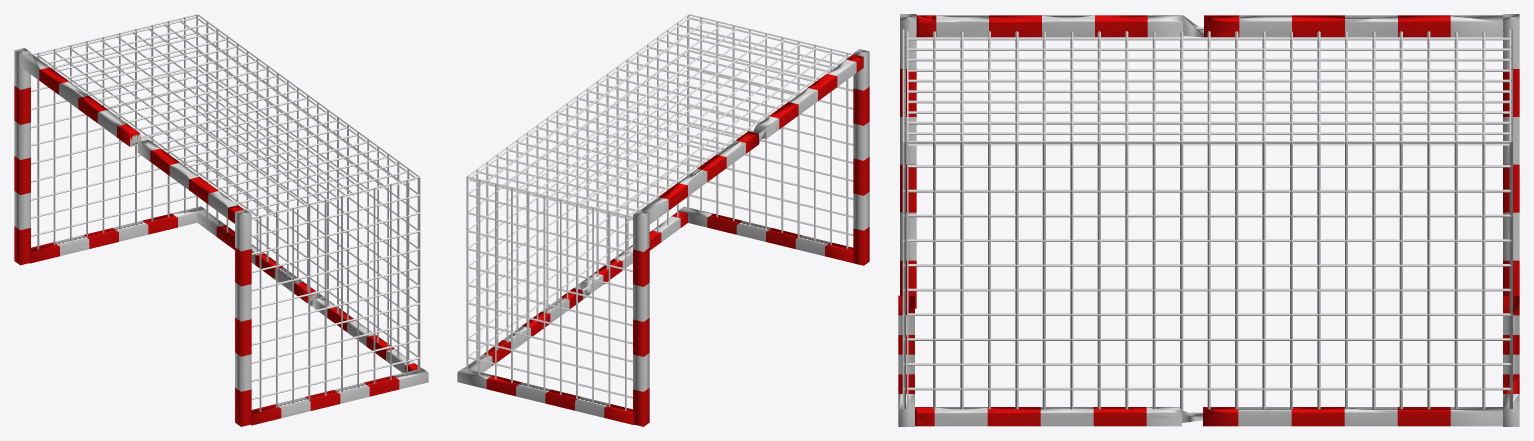
File: goal.glb
3 views of the same model, side by side, from view 1: azimuth 30°, elevation 25°; view 2: azimuth 150°, elevation 25°; view 3: azimuth 270°, elevation 25° (orthographic). The views are drawn at different scales.
Parts seen in each view (by area): view 1: Plane.007, Cube.006; view 2: Plane.007, Cube.006; view 3: Plane.007, Cube.006.
Part boxes in pixels (x1,y1,x2,y2): Plane.007: (31, 14, 420, 411); Cube.006: (14, 48, 428, 426); Plane.007: (466, 14, 853, 410); Cube.006: (457, 49, 869, 426); Plane.007: (902, 27, 1512, 413); Cube.006: (898, 14, 1519, 426).
Bounding box in the file's own units: 1.86 × 2.01 × 3.92.
